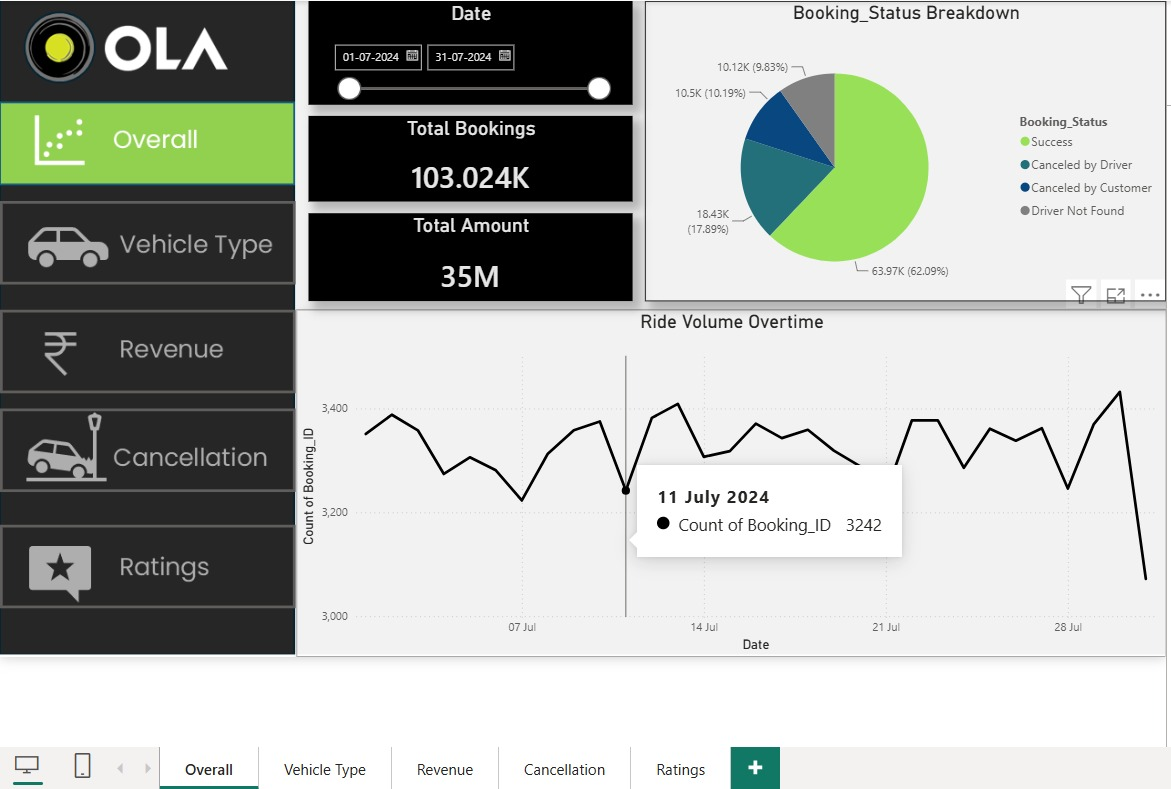

This screenshot's page, from the dashboard's own definition file:
{"tool":"powerbi","page":{"name":"Overall","canvas":[1280,720],"ordinal":0},"visuals":[{"type":"actionButton","box":[0,219.6,324.5,91.7],"z":0},{"type":"actionButton","box":[0,339,324.5,91.7],"z":1000},{"type":"actionButton","box":[0,447.6,324.5,91.7],"z":2000},{"type":"actionButton","box":[0,575.5,324.5,91.7],"z":3000},{"type":"lineChart","title":"Ride Volume Overtime","fields":{"Y":["CountNonNull(July.Booking_ID)"],"Category":["July.Date"]},"box":[325.2,338.9,955.1,381.5],"z":4000},{"type":"pieChart","title":"Booking_Status Breakdown","fields":{"Category":["July.Booking_Status"],"Y":["CountNonNull(July.Booking_Status)"]},"box":[708.1,0,572.2,329.3],"z":5000},{"type":"slicer","title":"Date","fields":{"Values":["July.Date"]},"box":[338.9,0,355.4,113.9],"z":6000},{"type":"cardVisual","title":"Total Bookings","fields":{"Data":["CountNonNull(July.Booking_ID)"]},"box":[338.9,126.2,355.4,93.3],"z":7000},{"type":"cardVisual","title":"Total Amount","fields":{"Data":["Sum(July.Booking_Value)"]},"box":[338.9,233.3,355.4,96.1],"z":8000}]}

Visuals, with their boxes in screenshot pixels (x1, y1, x2, y2):
actionButton: rect(0, 198, 293, 281)
actionButton: rect(0, 306, 293, 389)
actionButton: rect(0, 404, 293, 487)
actionButton: rect(0, 519, 293, 602)
"Ride Volume Overtime" lineChart: rect(293, 306, 1155, 650)
"Booking_Status Breakdown" pieChart: rect(639, 0, 1155, 297)
"Date" slicer: rect(306, 0, 626, 103)
"Total Bookings" cardVisual: rect(306, 114, 626, 198)
"Total Amount" cardVisual: rect(306, 210, 626, 297)
